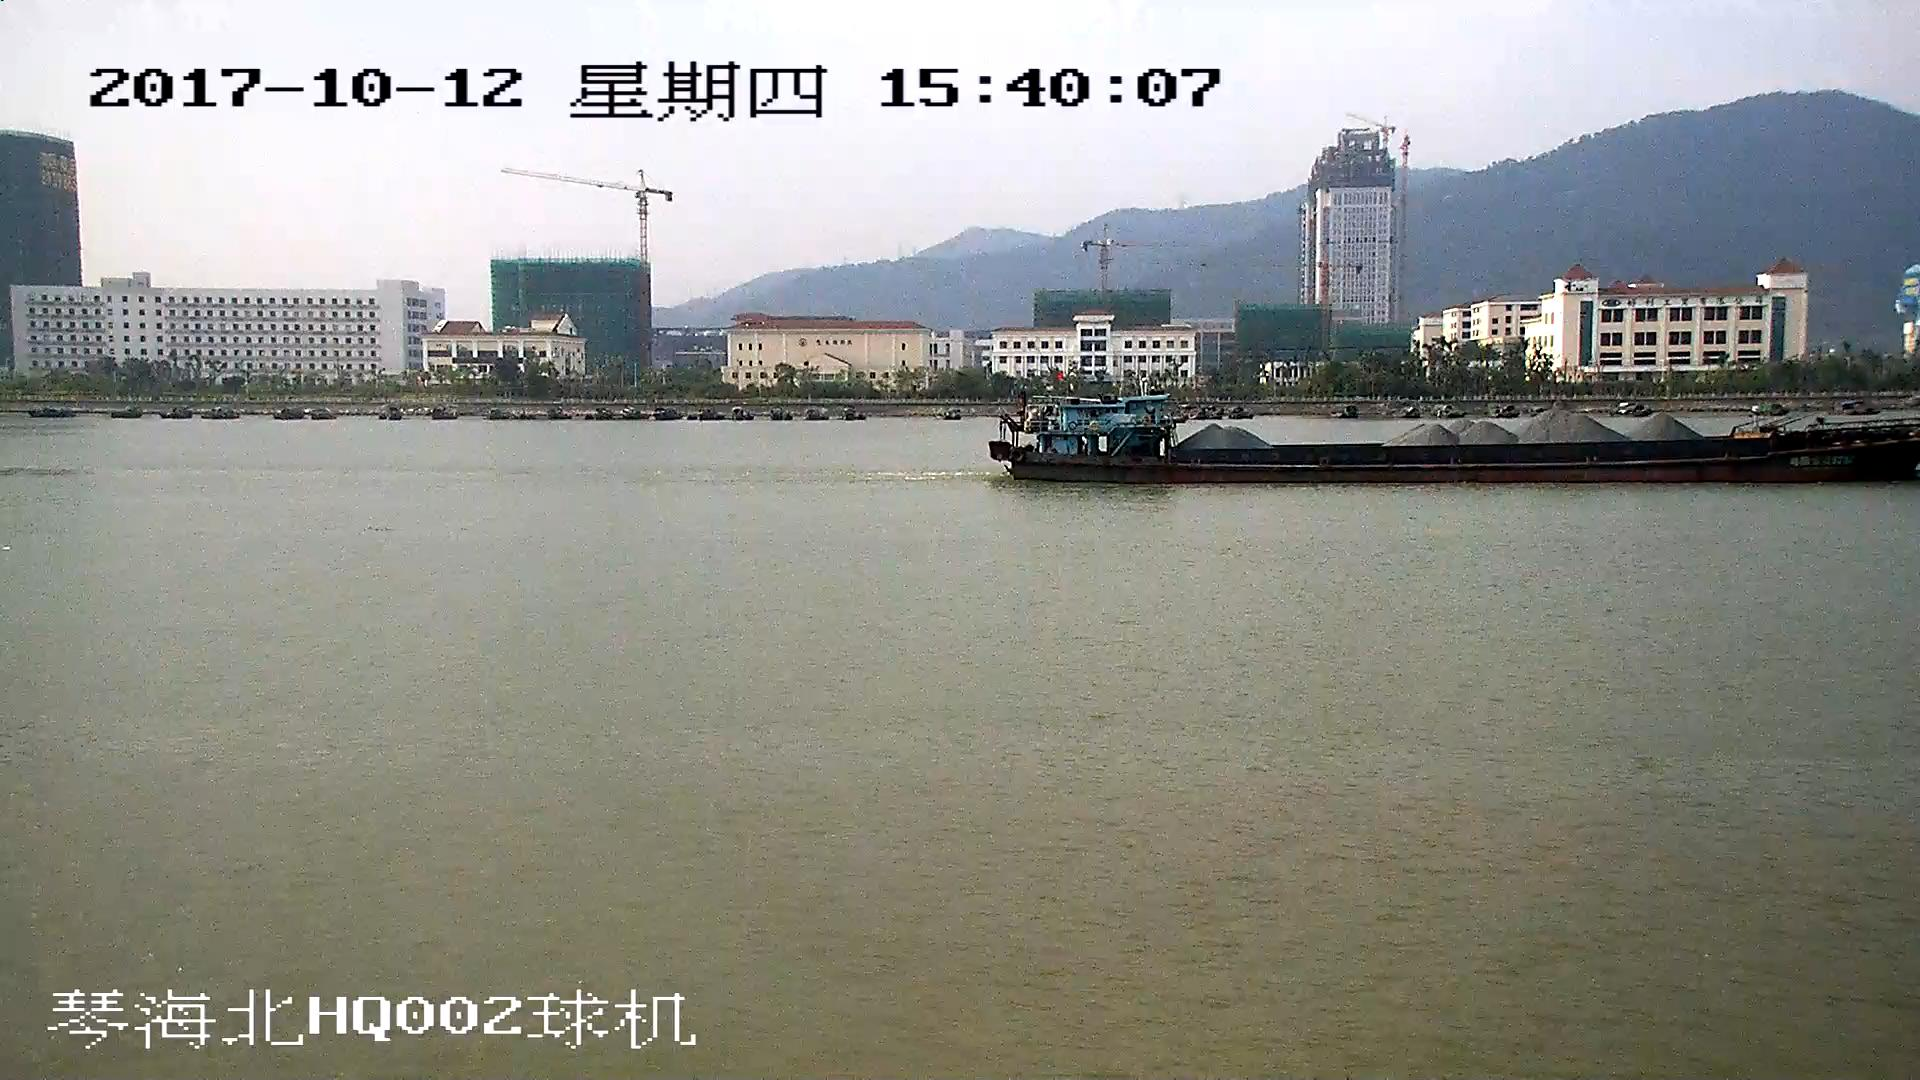ore carrier: (996, 391, 1920, 485)
